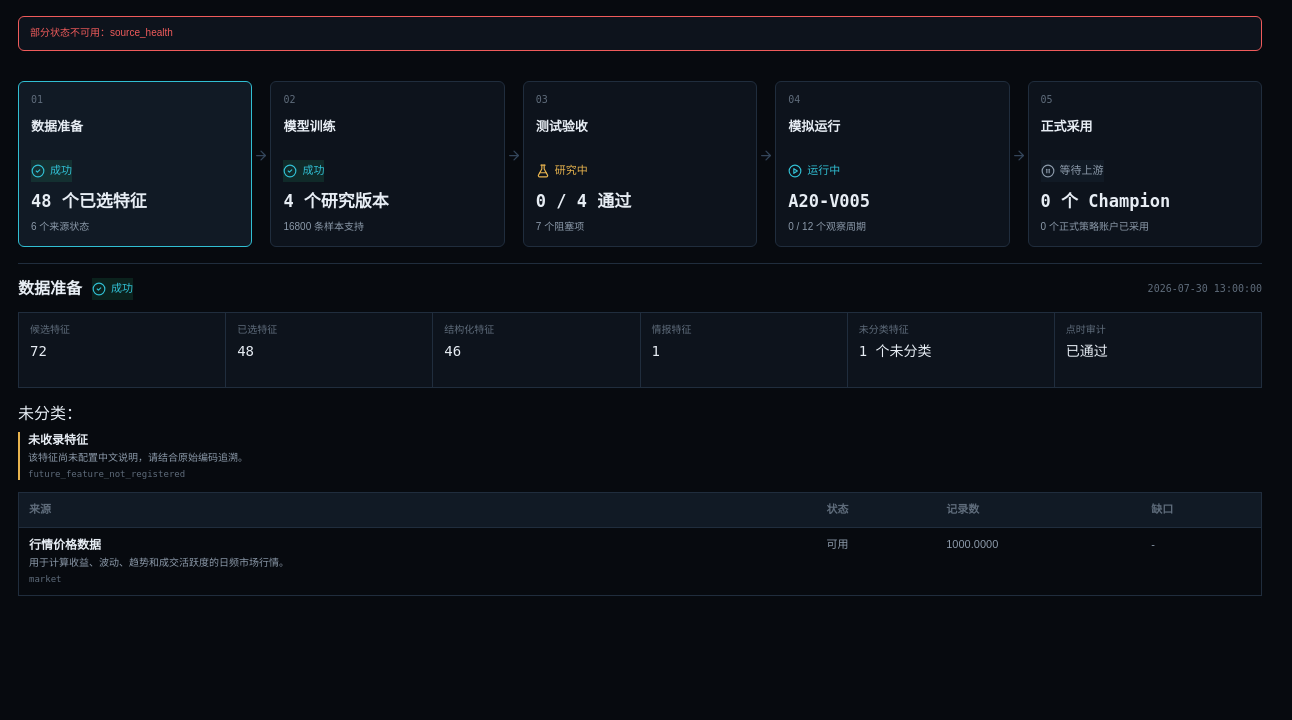
Test case: ModelResearchPage › shows a partial-status banner without hiding valid model sections
The image size is (1292, 720).
Expected: the text "部分状态不可用：source_health" is shown, [18,16,1262,50]
Click the button "02 模型训练 成功 4 个研究版本 16800 条样本支持": (388, 164) [270,80,505,246]
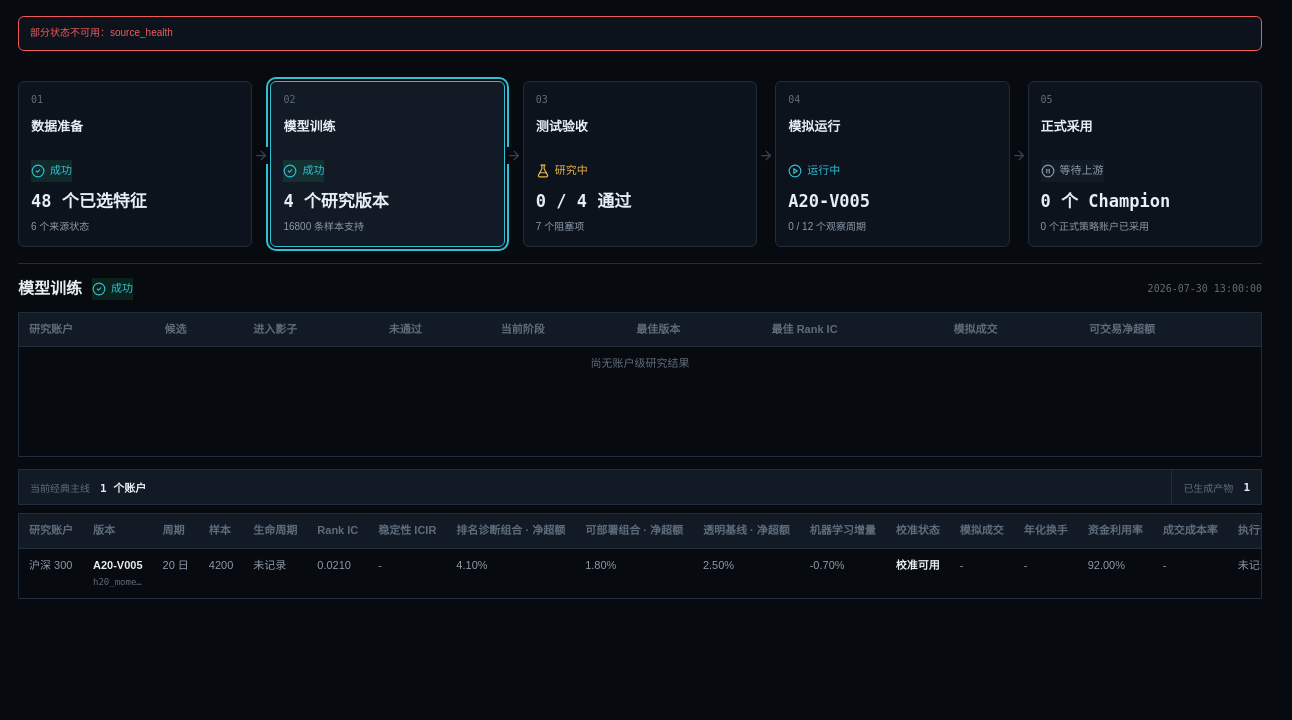
Expected: the element named "模型训练详情" shows "A20-V005", [93,559,142,571]
